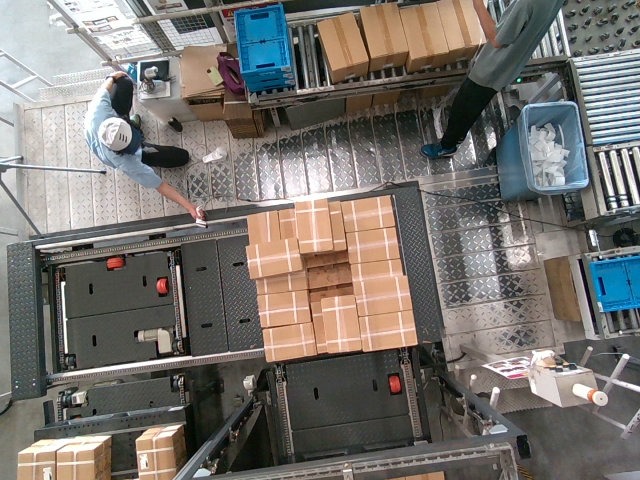box: (319, 291, 361, 355), (243, 234, 303, 276), (292, 200, 334, 251), (261, 324, 316, 360), (356, 313, 414, 347), (354, 277, 408, 313), (255, 291, 312, 325), (344, 230, 403, 262), (341, 195, 397, 228)
